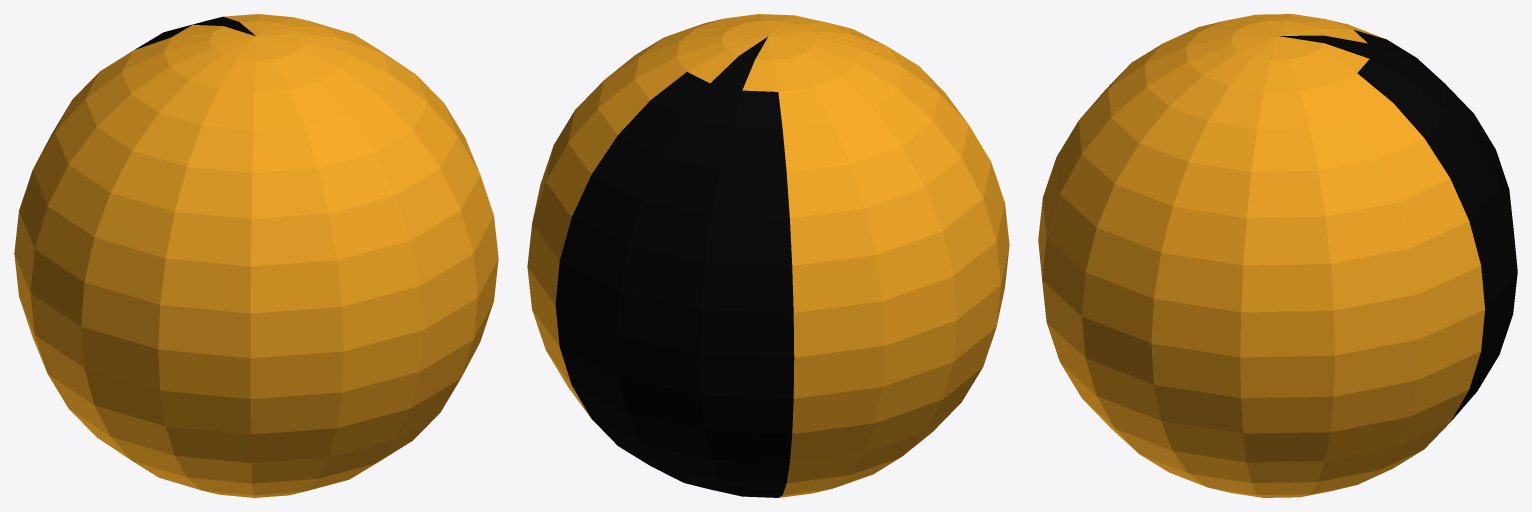
The model's file is Eye.fbx.
3 renders of one model, left to right at view 1: azimuth 30°, elevation 25°; view 2: azimuth 150°, elevation 25°; view 3: azimuth 270°, elevation 25°, orthographic.
Visible parts, largest first — view 1: Sphere; view 2: Sphere; view 3: Sphere.
Part boxes in pixels (x1=…): Sphere: x1=14, y1=14, x2=498, y2=497; Sphere: x1=527, y1=14, x2=1009, y2=497; Sphere: x1=1038, y1=14, x2=1517, y2=497.
Bounding box in the file's own units: 198 × 200 × 198.
